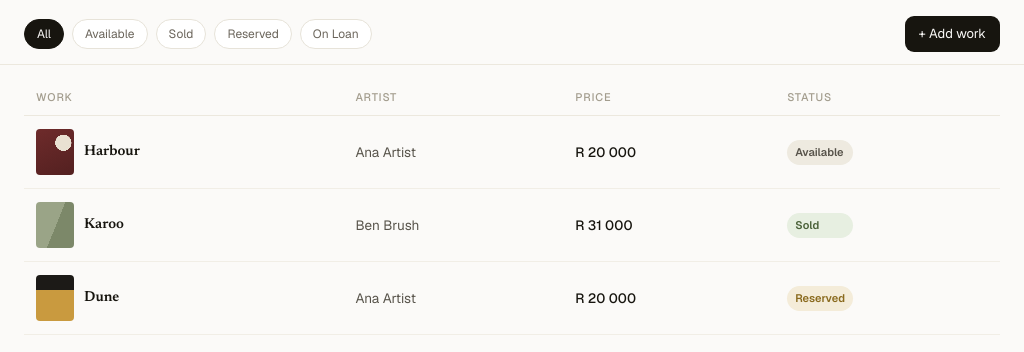
CataloguePanel list › explains an empty filter
Click the button "on loan" at coordinates (336, 34), box left=300, top=19, right=372, bottom=49
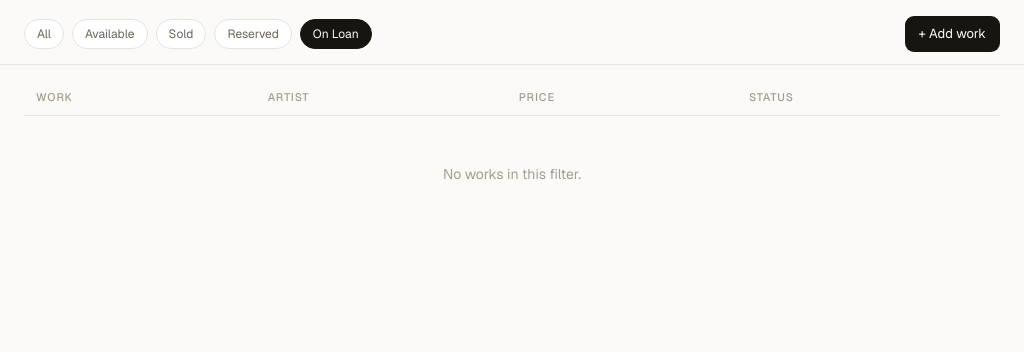
Result: the text "No works in this filter." is shown at left=24, top=116, right=1000, bottom=233
